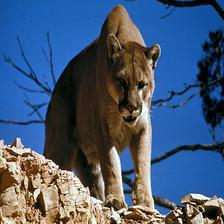Lion: (34, 3, 174, 212)
